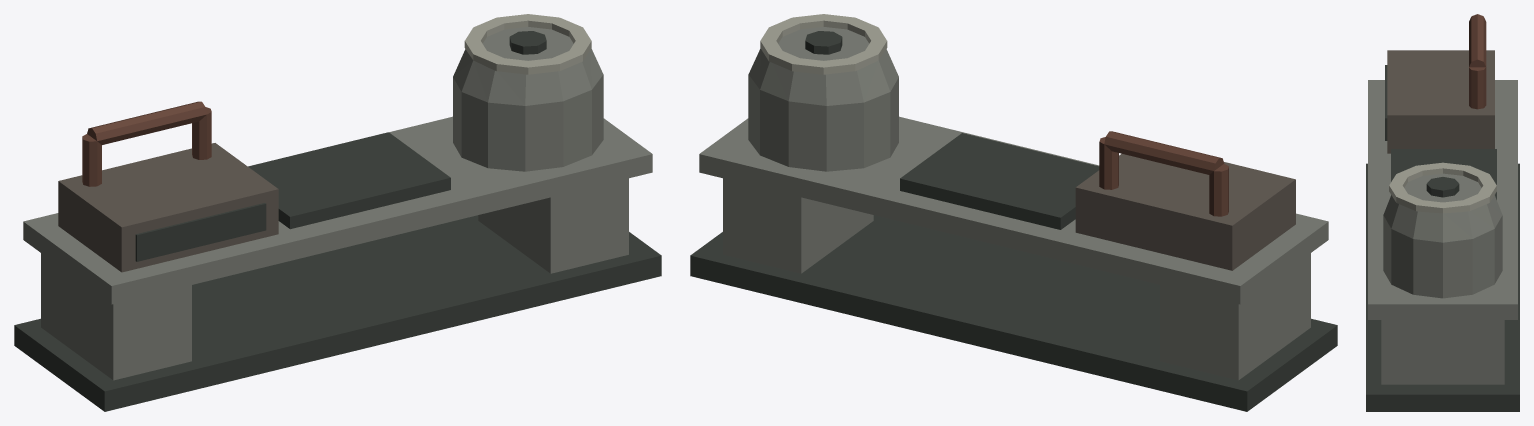
File: bioferrite_shaper.obj
The picture shows the model from 3 angles, left to right: view 1: azimuth 30°, elevation 25°; view 2: azimuth 150°, elevation 25°; view 3: azimuth 270°, elevation 25°; orthographic projection. The views are drawn at different scales.
Visible parts, largest first — view 1: bioferrite_shaper; view 2: bioferrite_shaper; view 3: bioferrite_shaper.
Boxes of the visible parts, <box> form: bioferrite_shaper: <box>14,14,661,411</box>; bioferrite_shaper: <box>690,14,1337,411</box>; bioferrite_shaper: <box>1366,14,1519,411</box>.
Size of the model in its own units: 2.84 by 1.1 by 0.8.
